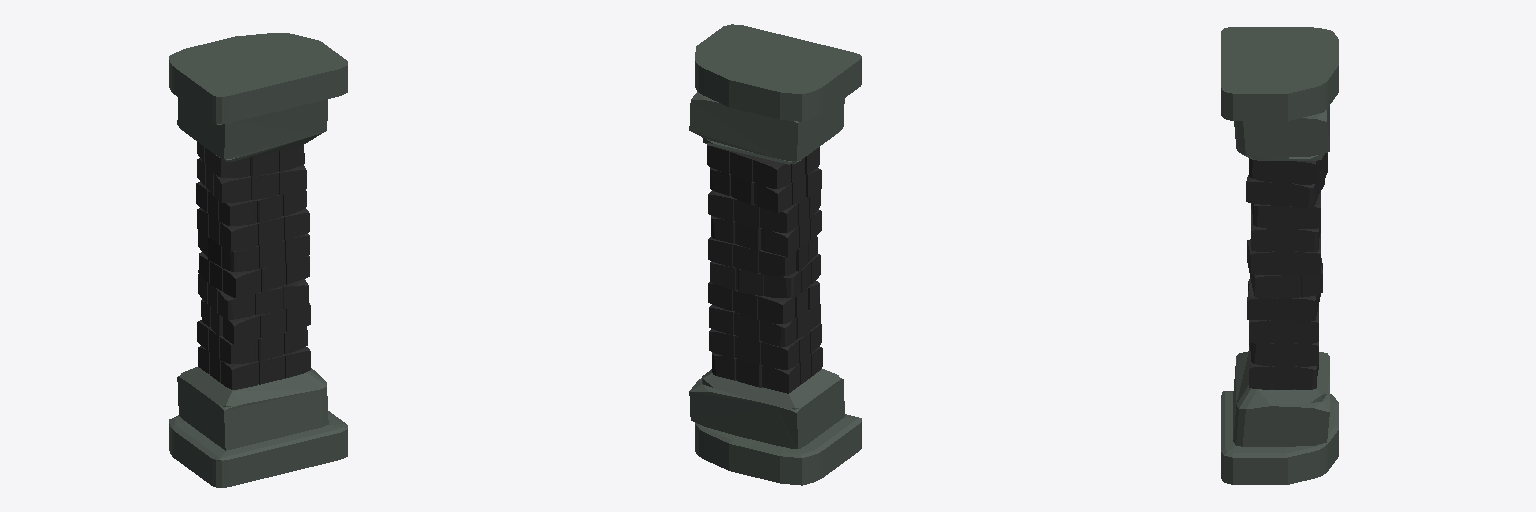
File: pillar.obj
3 renders of one model, left to right at view 1: azimuth 30°, elevation 25°; view 2: azimuth 150°, elevation 25°; view 3: azimuth 270°, elevation 25°, orthographic.
Visible parts, largest first — view 1: beam.001; view 2: beam.001; view 3: beam.001.
Part boxes in pixels (x1,y1,x2,y2): beam.001: (169,33,347,487); beam.001: (689,24,861,485); beam.001: (1221,27,1338,484).
Size of the model in its own units: 1.75 by 4.79 by 1.32.